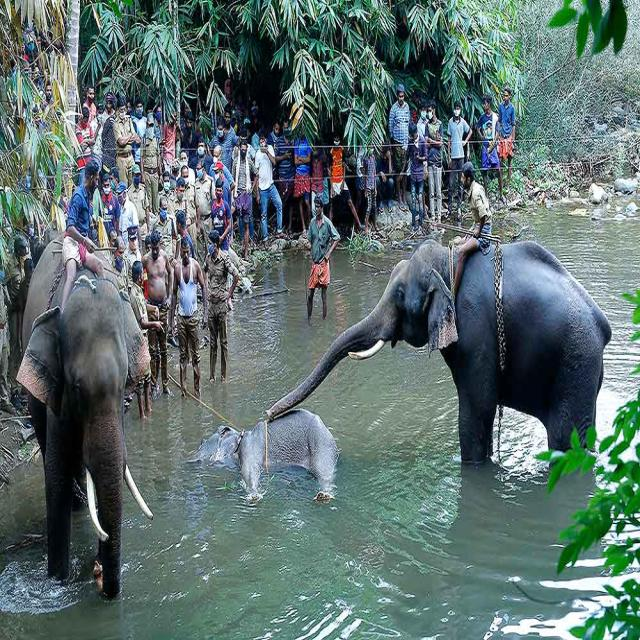Elephant: (273, 231, 635, 496), (17, 221, 156, 611), (192, 386, 346, 544)
